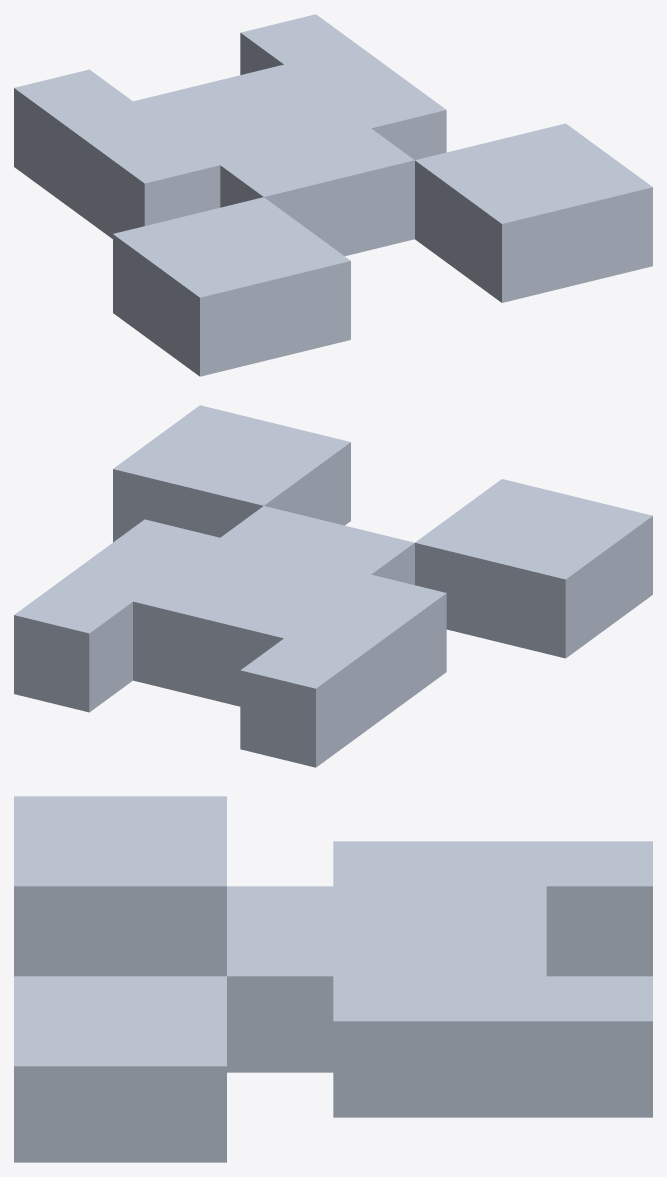
Rendered from nuvem4.fbx.
The picture shows the model from 3 angles, top to bottom: view 1: azimuth 30°, elevation 25°; view 2: azimuth 150°, elevation 25°; view 3: azimuth 270°, elevation 25°; orthographic projection. The views are drawn at different scales.
Visible parts, largest first — view 1: Cube.010; view 2: Cube.010; view 3: Cube.010.
Boxes of the visible parts, left/top/right/bottom form: Cube.010: left=14, top=14, right=652, bottom=376; Cube.010: left=14, top=405, right=652, bottom=767; Cube.010: left=14, top=796, right=652, bottom=1162.
Bounding box in the file's own units: 600 × 100 × 600.
